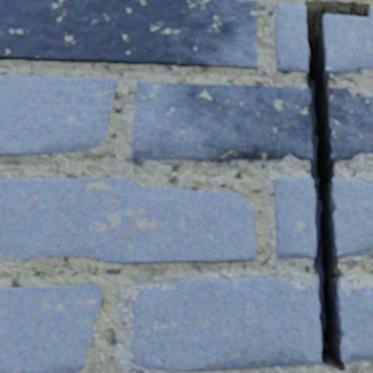brick: (0, 178, 256, 263), (0, 0, 257, 69), (0, 76, 116, 156), (0, 284, 104, 372)
broken_brick: (130, 277, 321, 370), (133, 83, 313, 160), (276, 178, 316, 258), (328, 88, 372, 160), (332, 178, 372, 256), (323, 12, 372, 74), (337, 286, 372, 361), (276, 5, 309, 72)
crack: (304, 0, 370, 371)
